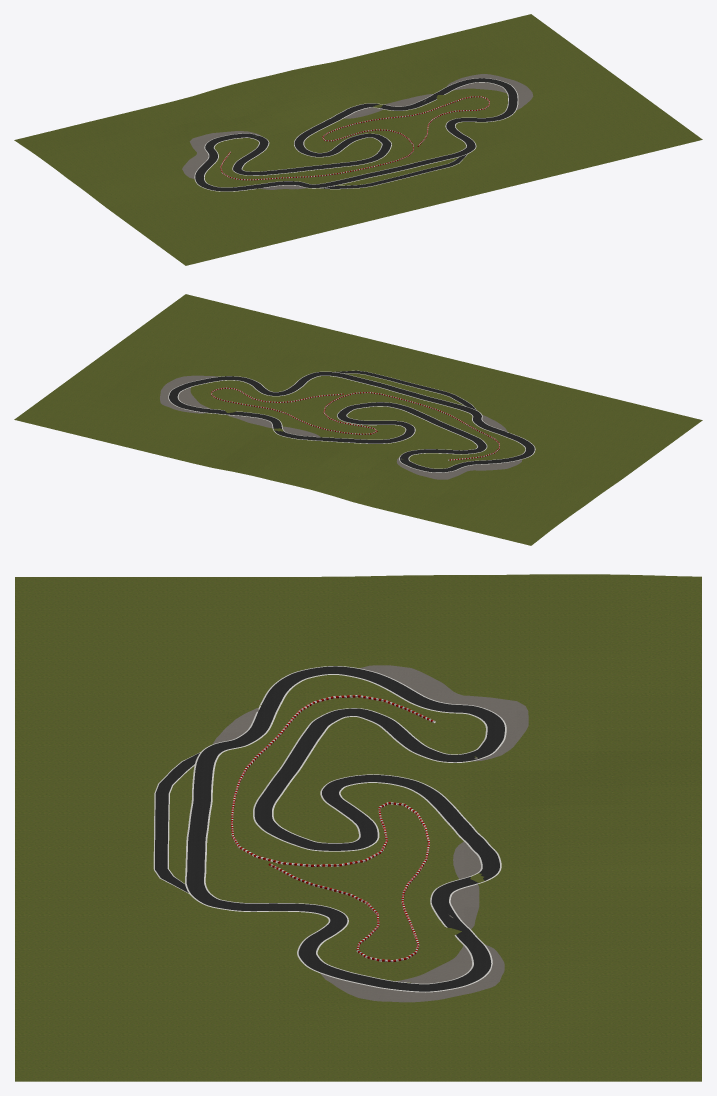
Rendered from PistaDefinitelyMaybe.fbx.
3 views of the same model, one above another, from view 1: azimuth 30°, elevation 25°; view 2: azimuth 150°, elevation 25°; view 3: azimuth 270°, elevation 25° (orthographic). The views are drawn at different scales.
Visible parts, largest first — view 1: terreno, pista, pianos, barrera; view 2: terreno, pista, pianos, barrera; view 3: terreno, pista, pianos, barrera.
Boxes of the visible parts, box(x1,y1,x2,y2) form: terreno: box(14, 14, 702, 265); pista: box(195, 78, 517, 191); pianos: box(194, 78, 518, 191); barrera: box(220, 96, 489, 180); terreno: box(14, 294, 702, 545); pista: box(169, 370, 534, 472); pianos: box(168, 370, 535, 472); barrera: box(211, 387, 499, 460); terreno: box(15, 574, 701, 1081); pista: box(155, 666, 504, 991); pianos: box(153, 666, 506, 992); barrera: box(231, 695, 435, 962).
Bounding box in the file's own units: 56571 × 436 × 32542.
Materials: 7 (7 with a texture image).
